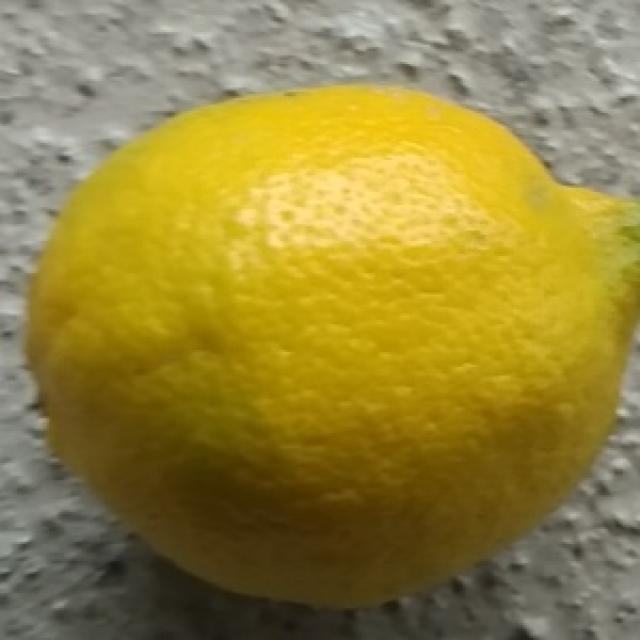Ripe: (21, 76, 640, 612)
